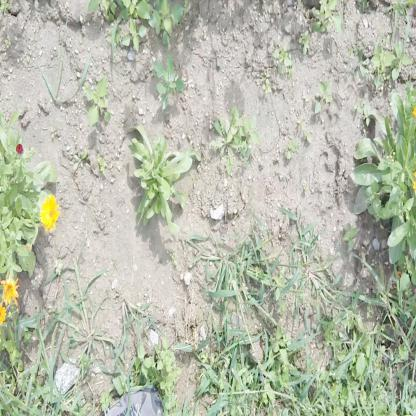marigold: (39, 195, 60, 229)
